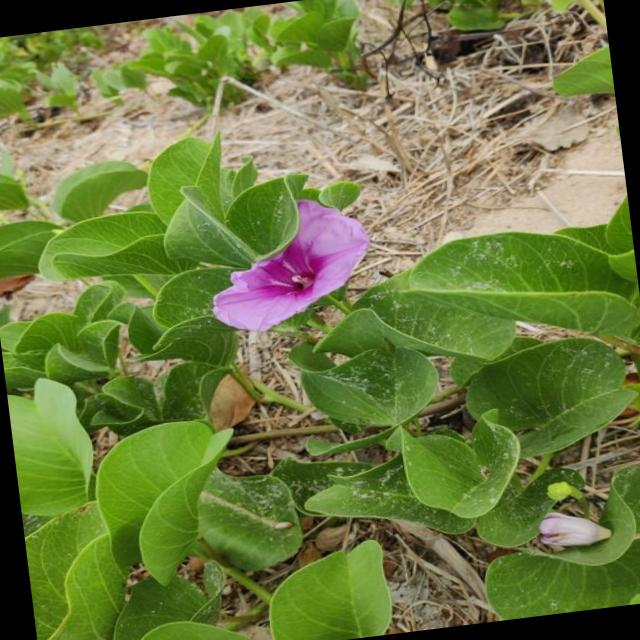ipomoea: (194, 188, 382, 341)
